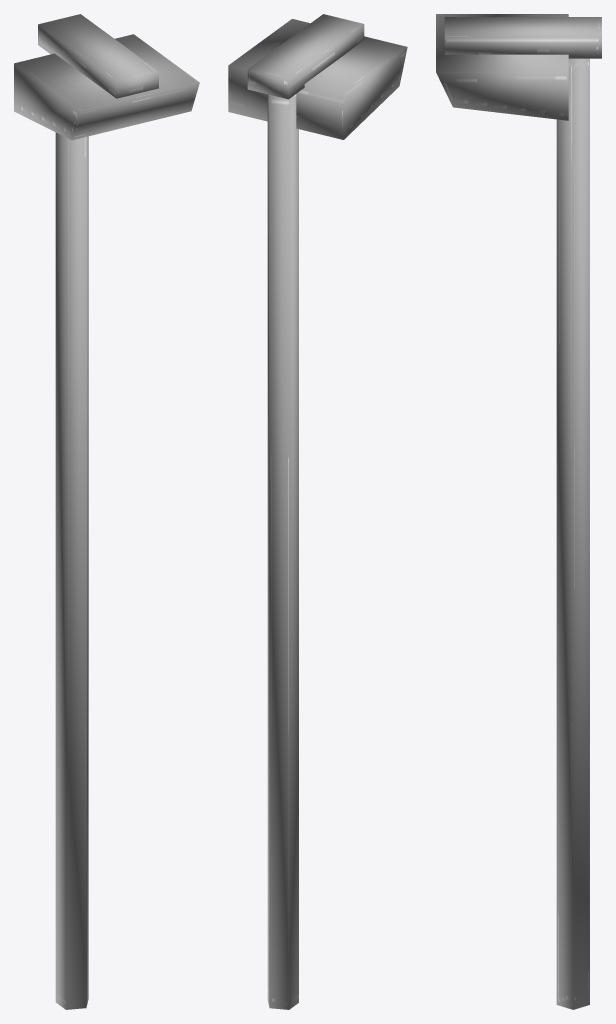
File: street_lamp.obj
3 renders of one model, left to right at view 1: azimuth 30°, elevation 25°; view 2: azimuth 150°, elevation 25°; view 3: azimuth 270°, elevation 25°, orthographic. The views are drawn at different scales.
Parts seen in each view (by area): view 1: Cylinder001; view 2: Cylinder001; view 3: Cylinder001.
Part boxes in pixels (x1,y1,x2,y2): Cylinder001: (14, 14, 199, 1009); Cylinder001: (228, 14, 407, 1009); Cylinder001: (436, 14, 601, 1009).
Bounding box in the file's own units: 10.22 × 79.43 × 12.23.
